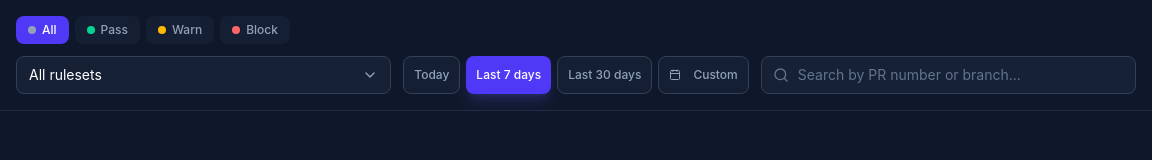
it: FilterBar › shows clear button when search has text
The width and height of the screenshot is (1152, 160).
Type "test" into the field with placeholder "Search by PR number or branch...".
click(948, 75); type("test")  # box top-left (761, 56), bottom-right (1136, 94)
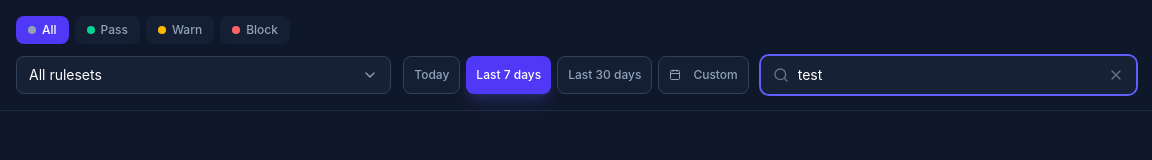
Now the button named "clear search" is shown, box top-left (1108, 67), bottom-right (1124, 83)
